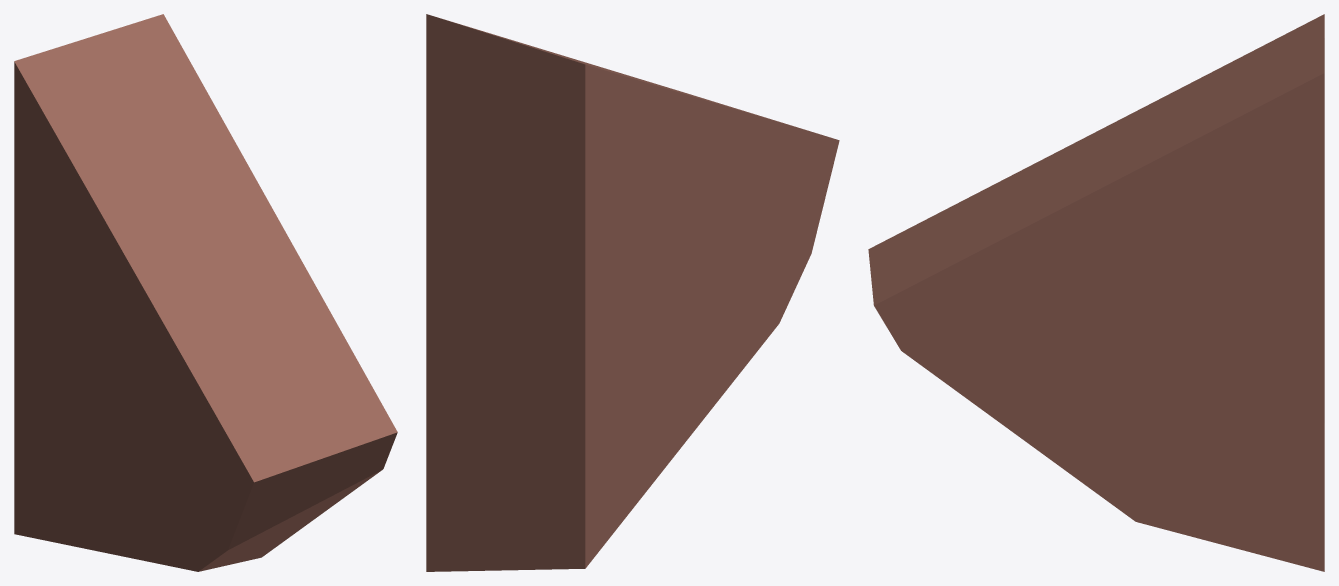
Rendered from T_MurDetruit_7.10.fbx.
3 renders of one model, left to right at view 1: azimuth 30°, elevation 25°; view 2: azimuth 150°, elevation 25°; view 3: azimuth 270°, elevation 25°, orthographic. The views are drawn at different scales.
Parts seen in each view (by area): view 1: T_MurDetruit_7.10; view 2: T_MurDetruit_7.10; view 3: T_MurDetruit_7.10.
Boxes of the visible parts, x1,y1,x2,y2 form: T_MurDetruit_7.10: [14, 14, 397, 571]; T_MurDetruit_7.10: [426, 14, 839, 571]; T_MurDetruit_7.10: [868, 14, 1324, 571].
Size of the model in its own units: 13.48 by 45.16 by 37.42.
